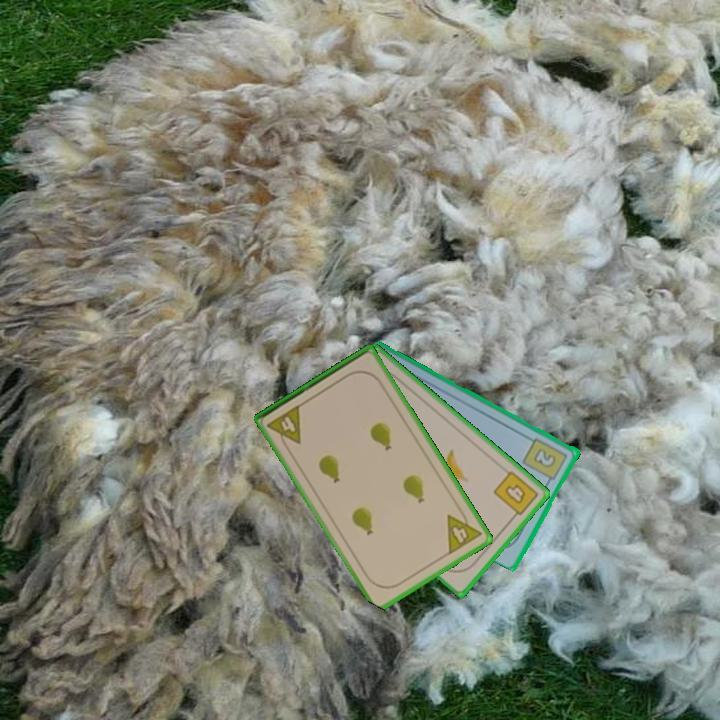2b: (519, 434, 571, 487)
4b: (490, 467, 541, 523)
4p: (443, 504, 485, 557), (263, 401, 304, 453)
